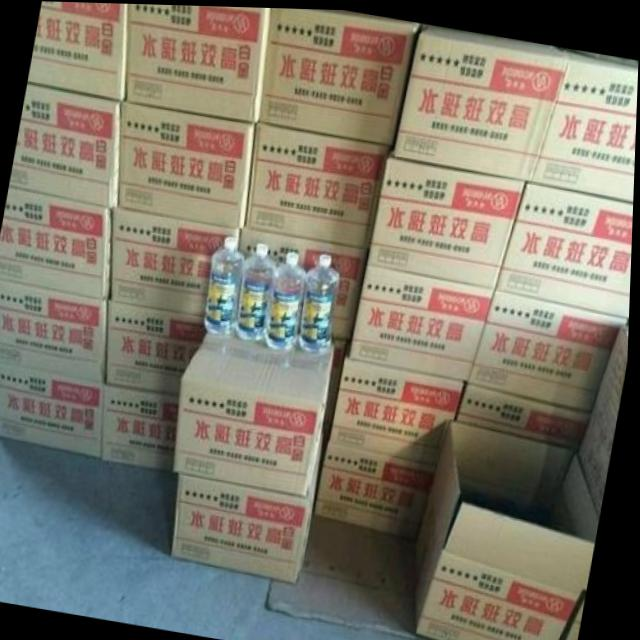box: (418, 421, 602, 640), (176, 327, 337, 498), (391, 24, 568, 178), (263, 6, 417, 145), (369, 154, 527, 286), (176, 442, 326, 580), (471, 290, 629, 411), (497, 180, 635, 317), (248, 120, 391, 245), (127, 3, 271, 122), (351, 262, 497, 379), (119, 102, 255, 227), (532, 49, 639, 202), (241, 226, 368, 337), (332, 357, 466, 461), (10, 83, 121, 207), (114, 209, 241, 316), (0, 189, 113, 299), (0, 282, 110, 383), (318, 443, 439, 534), (0, 364, 107, 461), (28, 1, 128, 101), (581, 321, 631, 518), (109, 303, 209, 393), (462, 381, 592, 447), (104, 385, 181, 474), (570, 591, 589, 640)
